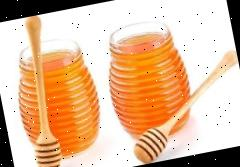glass: (98, 18, 201, 148), (9, 34, 107, 166)
